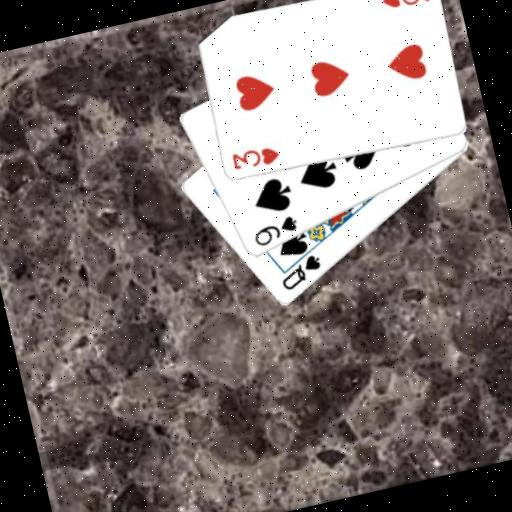3H: (228, 140, 282, 174), (376, 0, 431, 14)
9S: (248, 212, 303, 250)
QS: (273, 250, 327, 294)
